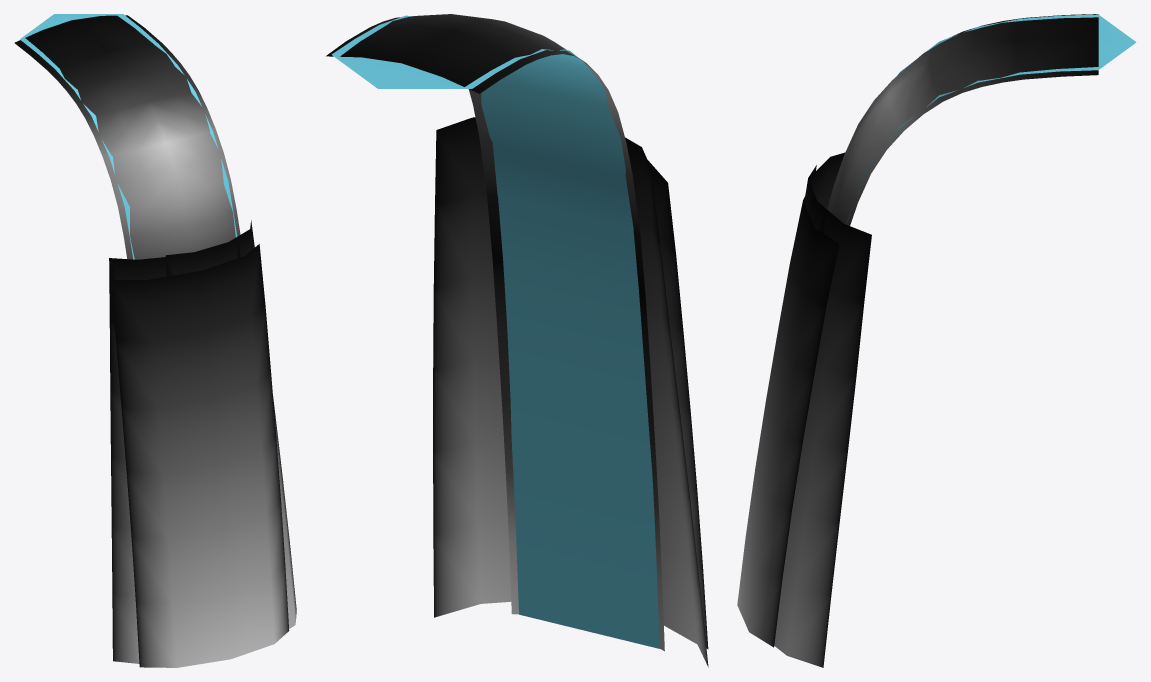
Rendered from HexWaterTile_WaterFall.fbx.
3 views of the same model, side by side, from view 1: azimuth 30°, elevation 25°; view 2: azimuth 150°, elevation 25°; view 3: azimuth 270°, elevation 25° (orthographic). The views are drawn at different scales.
Visible parts, largest first — view 1: HexWaterTile_WaterFall_FoamBottom, HexWaterTile_WaterFall_Foam, HexWaterTile_WaterFall_FoamBottom2, HexWaterTile_WaterFall_FoamBottom1, HexWaterTile_WaterFall_Water; view 2: HexWaterTile_WaterFall_Water, HexWaterTile_WaterFall_FoamBottom1, HexWaterTile_WaterFall_Foam, HexWaterTile_WaterFall_FoamBottom2, HexWaterTile_WaterFall_FoamBottom; view 3: HexWaterTile_WaterFall_FoamBottom1, HexWaterTile_WaterFall_FoamBottom, HexWaterTile_WaterFall_Foam, HexWaterTile_WaterFall_Water, HexWaterTile_WaterFall_FoamBottom2.
Part boxes in pixels (bbox=[...]): HexWaterTile_WaterFall_FoamBottom: bbox=[110, 244, 289, 667]; HexWaterTile_WaterFall_Foam: bbox=[14, 15, 240, 259]; HexWaterTile_WaterFall_FoamBottom2: bbox=[109, 237, 240, 663]; HexWaterTile_WaterFall_FoamBottom1: bbox=[165, 220, 296, 628]; HexWaterTile_WaterFall_Water: bbox=[20, 14, 237, 259]; HexWaterTile_WaterFall_Water: bbox=[331, 15, 659, 648]; HexWaterTile_WaterFall_FoamBottom1: bbox=[433, 117, 511, 617]; HexWaterTile_WaterFall_Foam: bbox=[326, 14, 664, 651]; HexWaterTile_WaterFall_FoamBottom2: bbox=[625, 137, 708, 667]; HexWaterTile_WaterFall_FoamBottom: bbox=[648, 160, 708, 649]; HexWaterTile_WaterFall_FoamBottom1: bbox=[774, 165, 871, 667]; HexWaterTile_WaterFall_FoamBottom: bbox=[737, 196, 839, 647]; HexWaterTile_WaterFall_Foam: bbox=[827, 14, 1098, 225]; HexWaterTile_WaterFall_Water: bbox=[846, 14, 1136, 224]; HexWaterTile_WaterFall_FoamBottom2: bbox=[808, 152, 845, 232].
Size of the model in its own units: 13.03 by 33.8 by 21.16.
